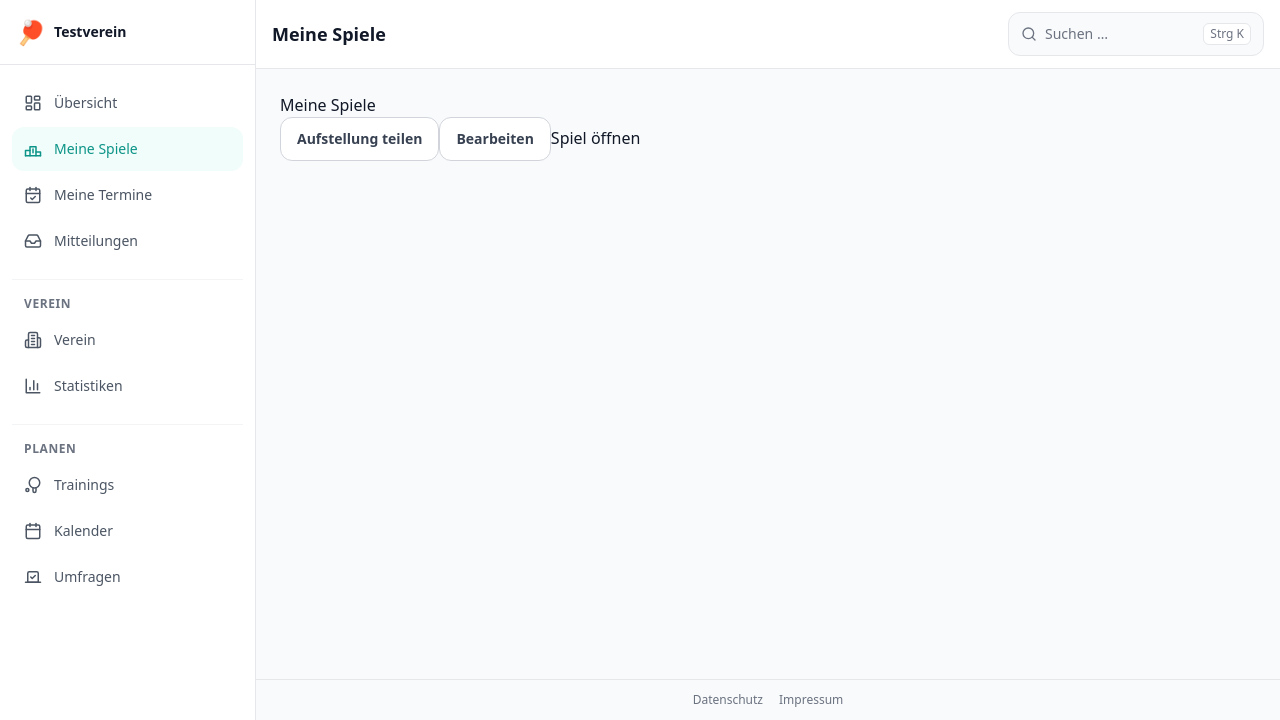
Test case: Zurückwischen schließt zuerst den Dialog › selbst geschlossen: kein toter Eintrag bleibt zurück
Click the button "Aufstellung teilen" at [360, 139], box [280,117,439,161]
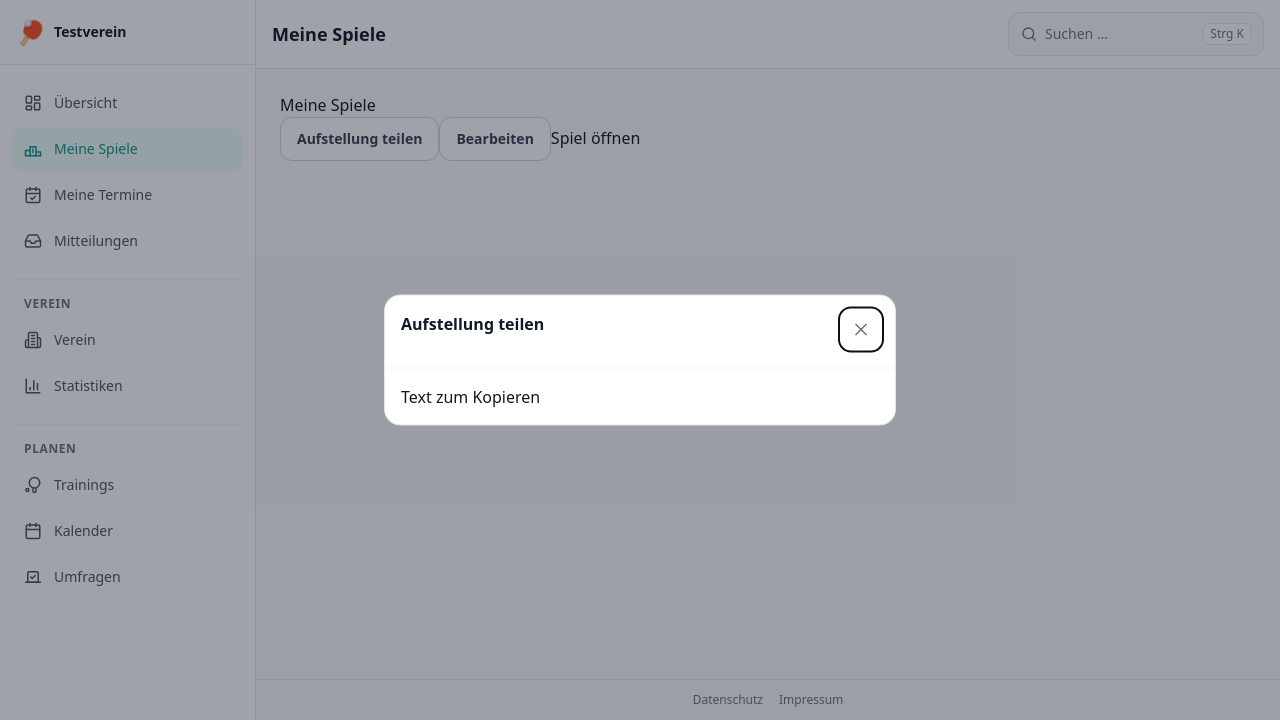
Click the button named "Schließen" at [861, 330], box [839,308,883,352]
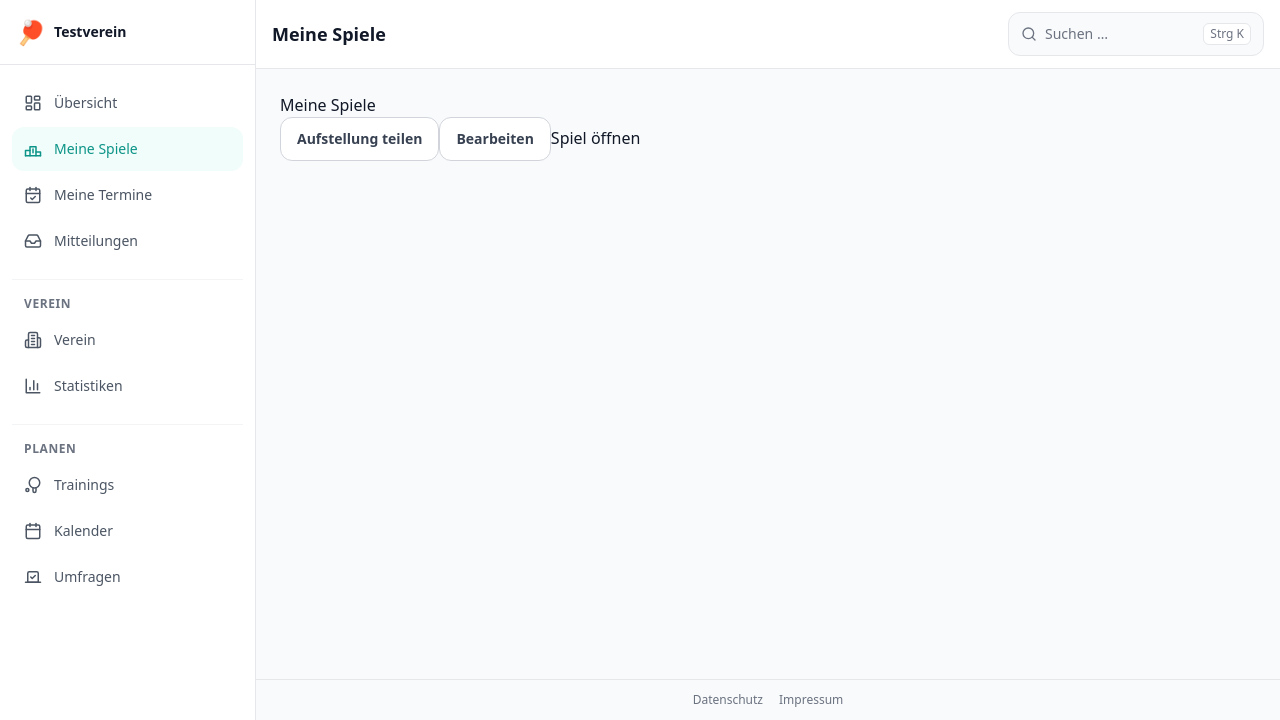
Expected: the dialog is gone
